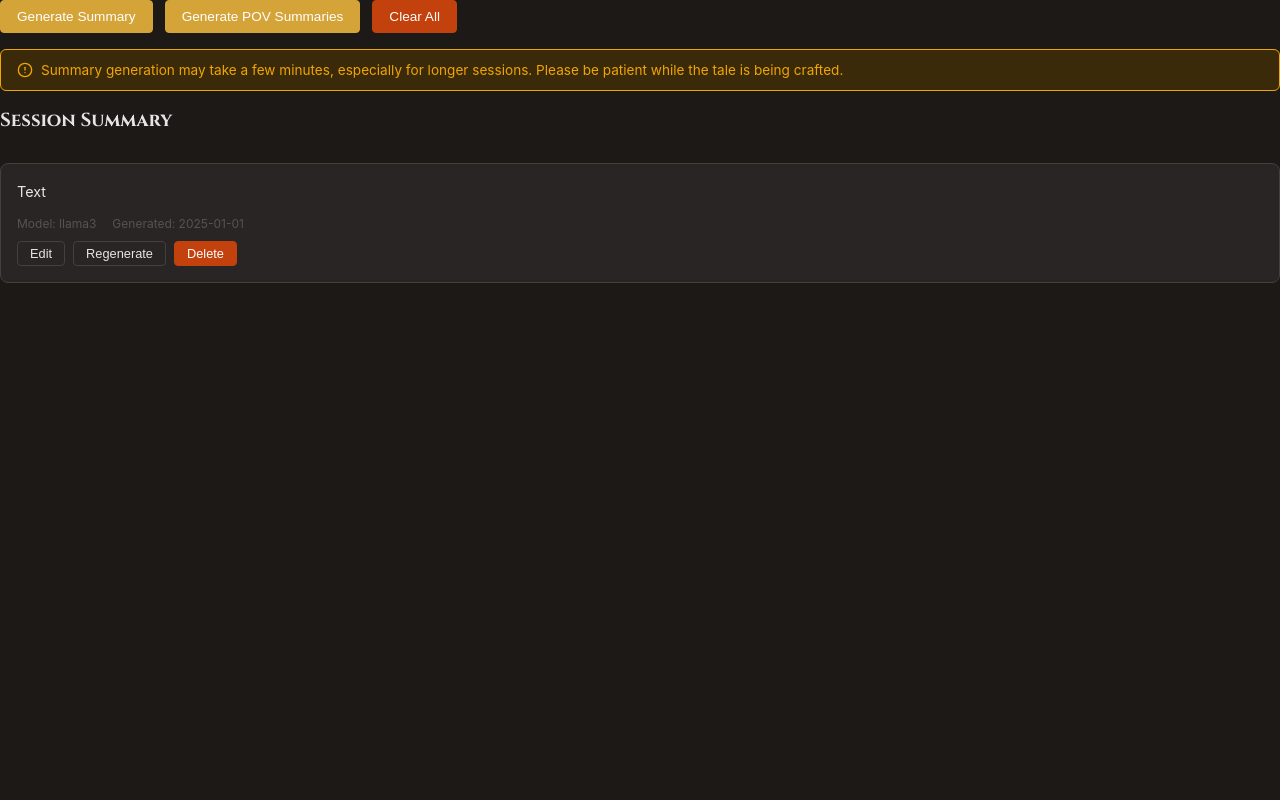
SummarySection › shows confirm dialog when Delete is clicked
Click the button "Delete". click: (206, 253)
box: [174, 241, 237, 266]
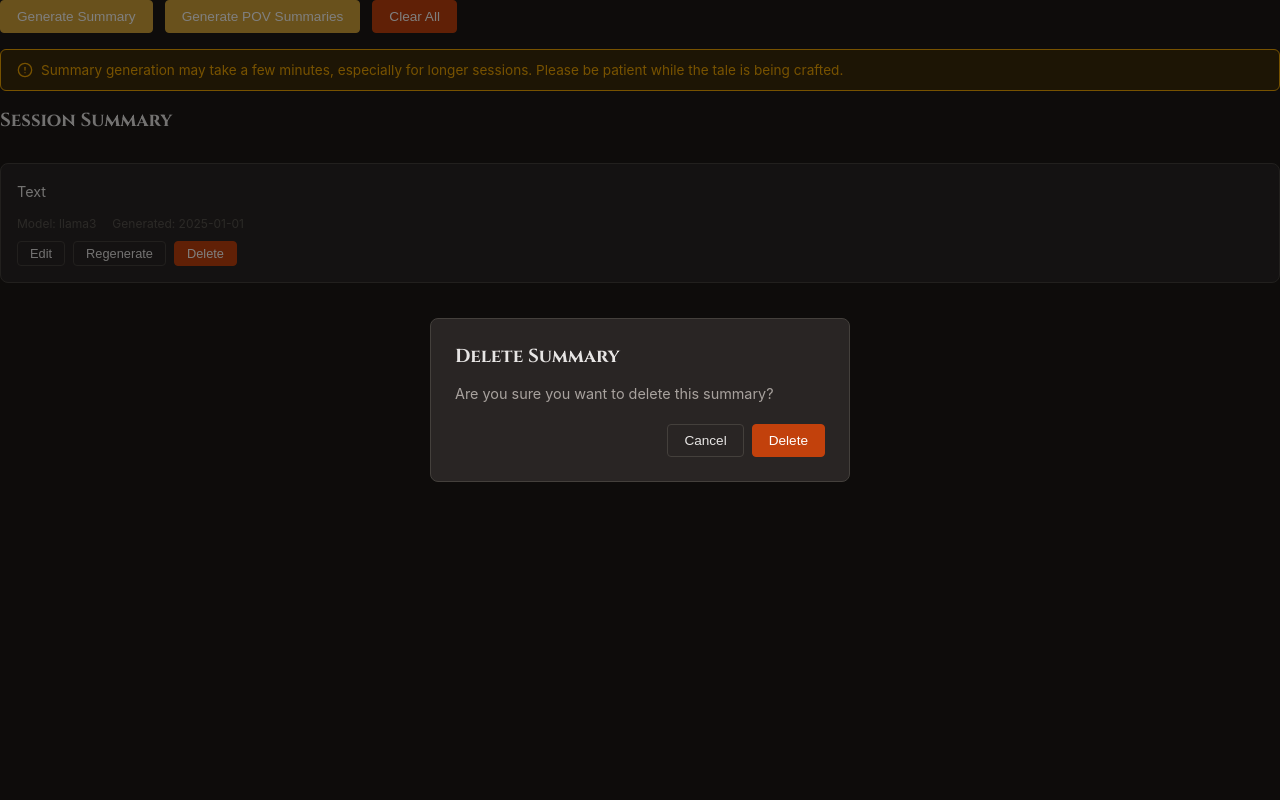
Now the heading "Delete Summary" is shown, box [455, 344, 620, 369]
